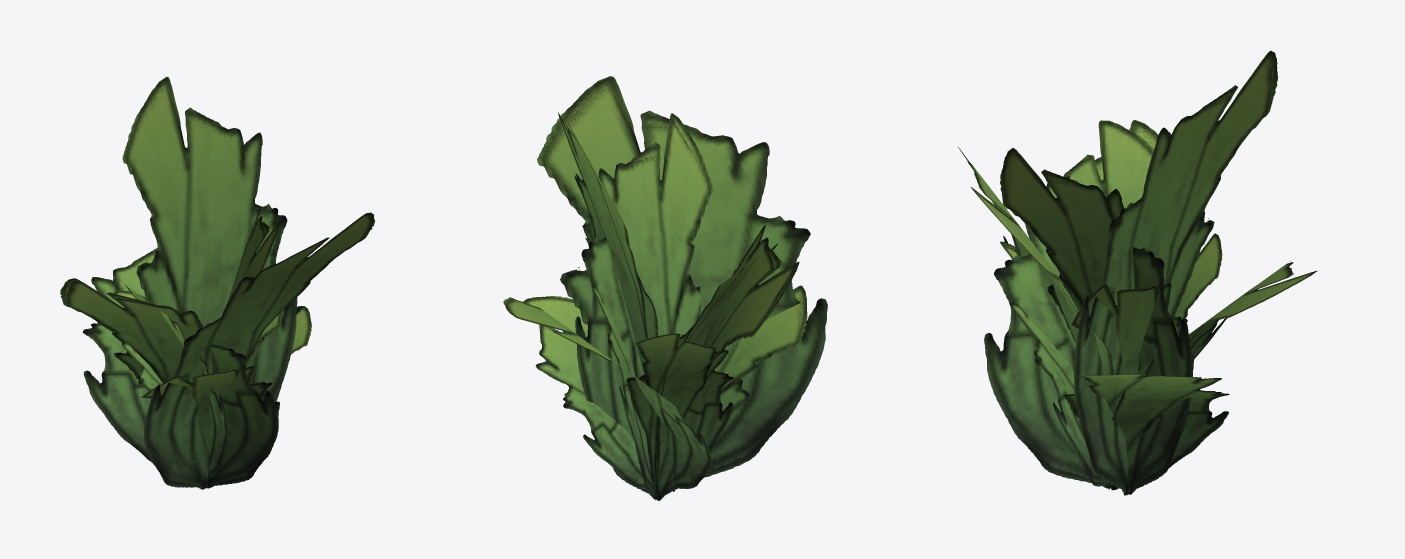
Rendered from GroundPalm.fbx.
3 renders of one model, left to right at view 1: azimuth 30°, elevation 25°; view 2: azimuth 150°, elevation 25°; view 3: azimuth 270°, elevation 25°, orthographic. The views are drawn at different scales.
Visible parts, largest first — view 1: GroundPalm; view 2: GroundPalm; view 3: GroundPalm.
Boxes of the visible parts, left/top/right/bottom form: GroundPalm: left=60, top=76, right=374, bottom=489; GroundPalm: left=503, top=76, right=827, bottom=500; GroundPalm: left=958, top=50, right=1317, bottom=495.
Size of the model in its own units: 563 by 683 by 587.
1 material, 1 textured.
